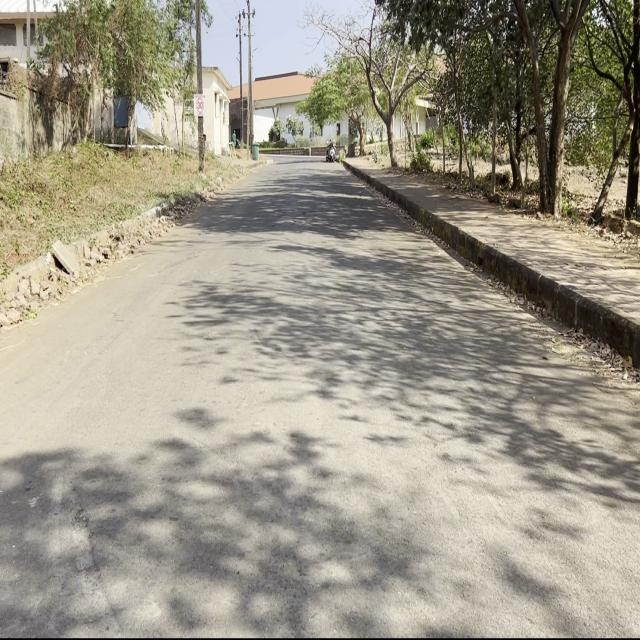Road: (5, 164, 636, 631)
